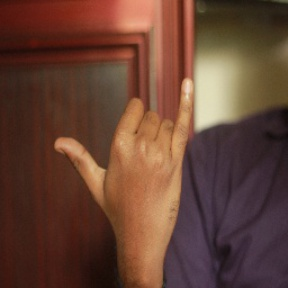J: (53, 66, 194, 234)
